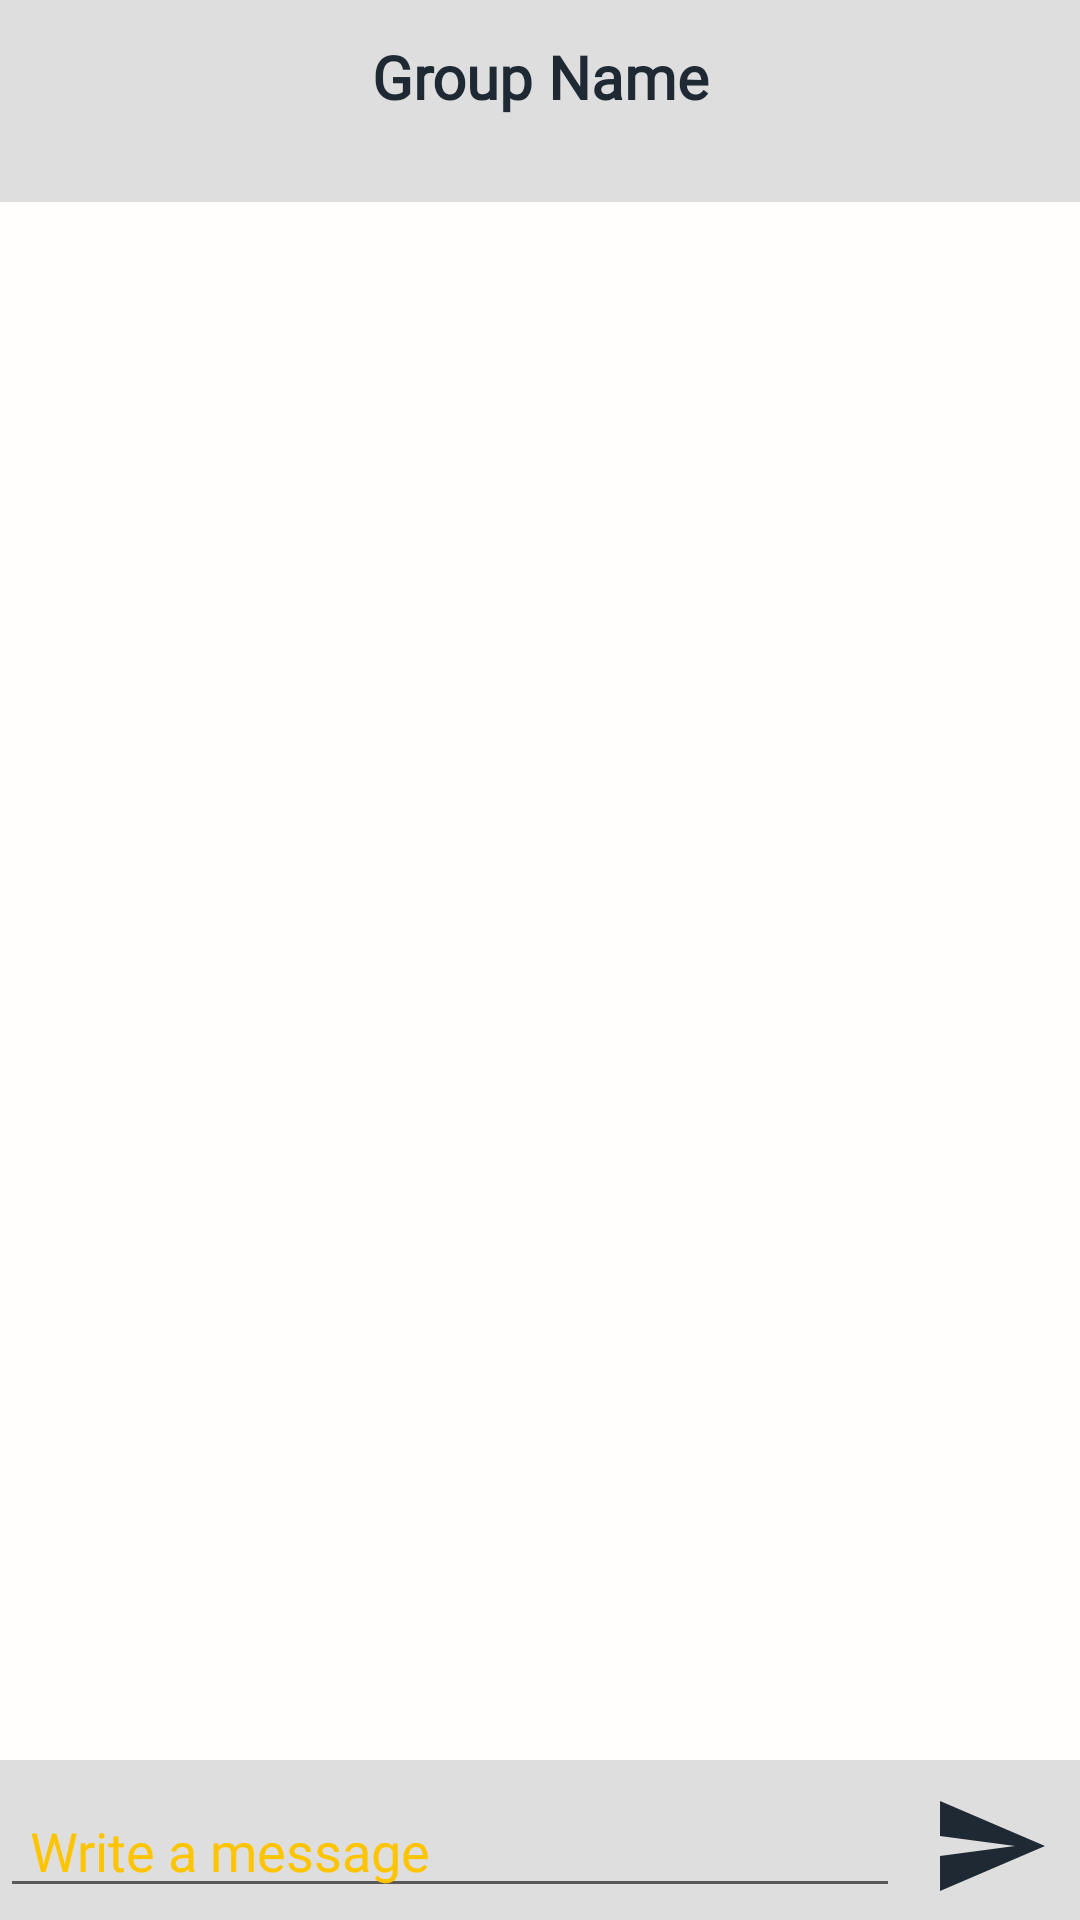

Named icons in this screenshot (1080 × 1920) and their bounding boxes, (x1, y1, x2, y2):
send: (940, 1801, 1045, 1891)
